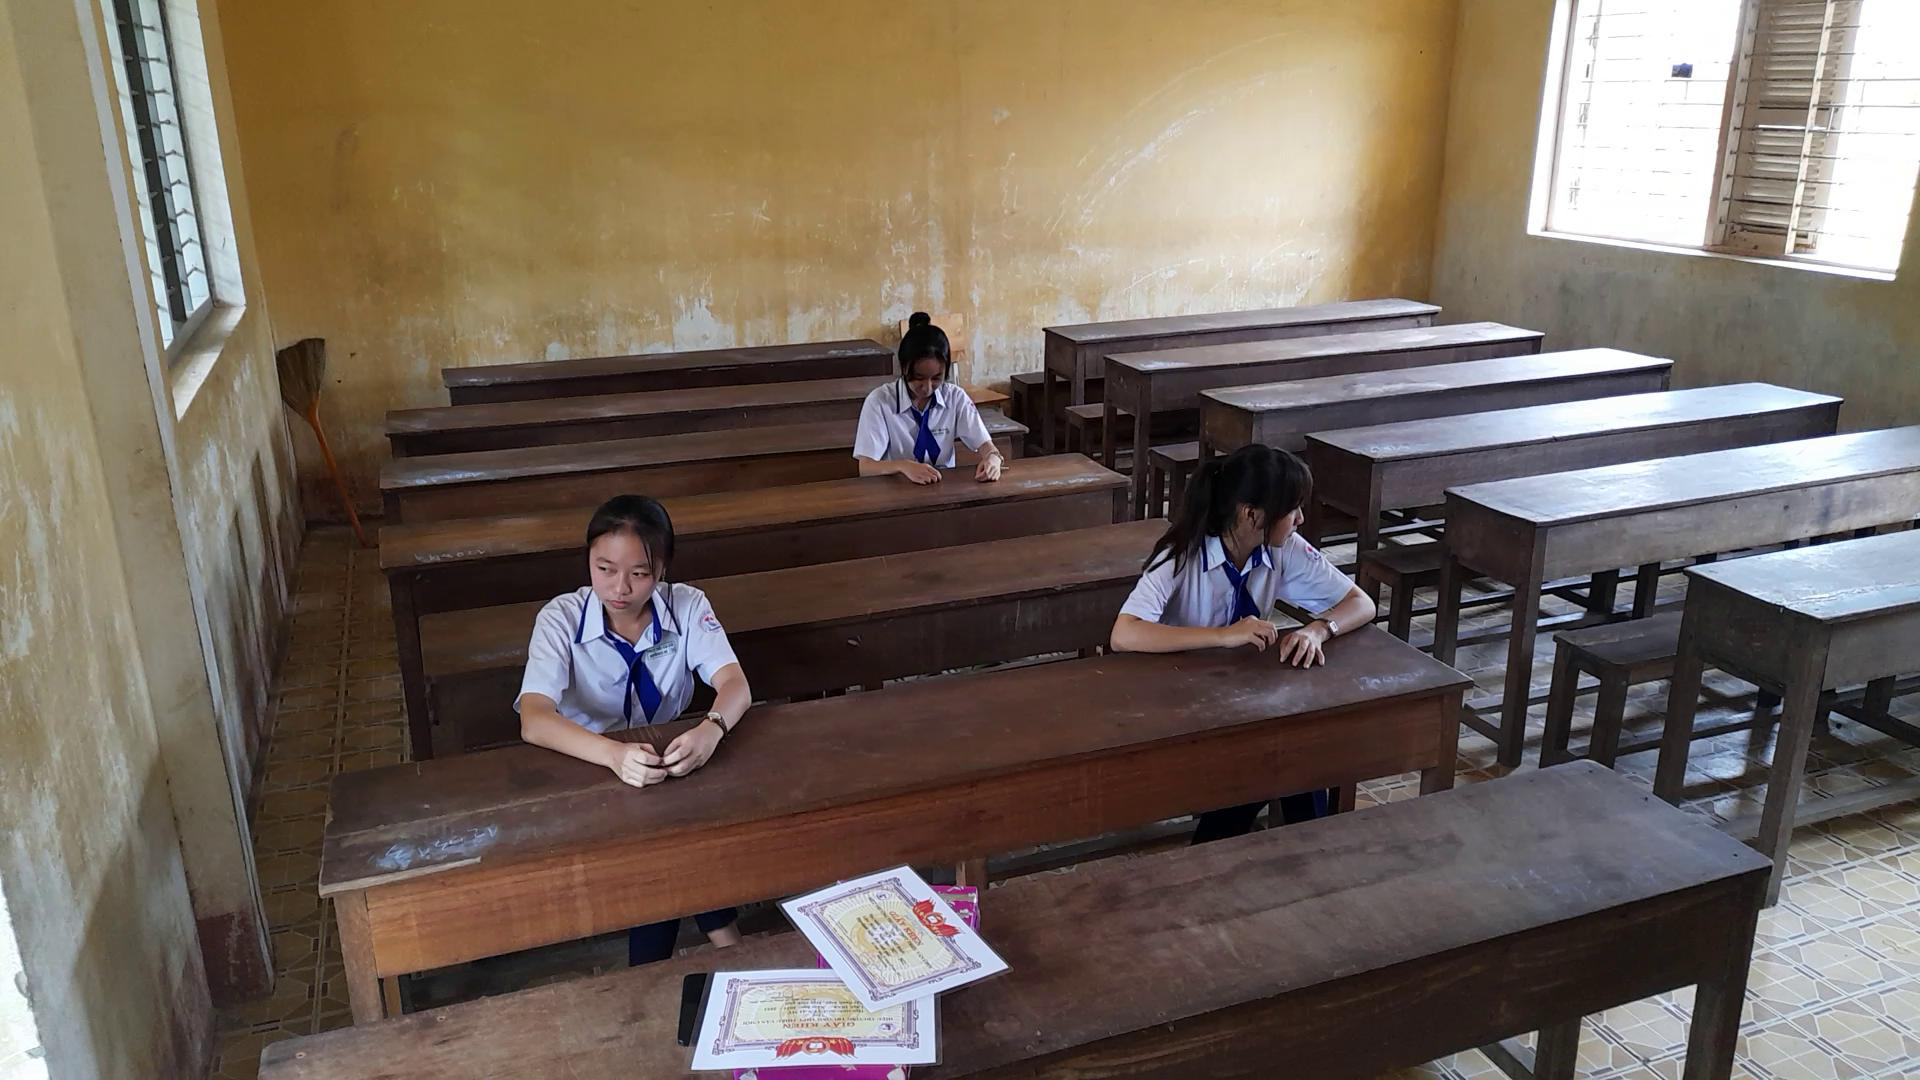Bend Over The Desk: (876, 295, 982, 401)
Look Around: (1160, 431, 1319, 560)
Normal: (504, 487, 765, 781)
